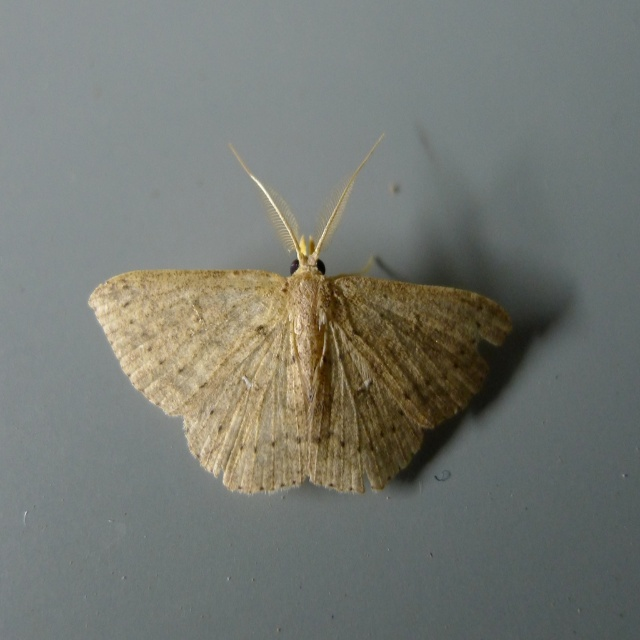Butterfly: (88, 131, 523, 500)
